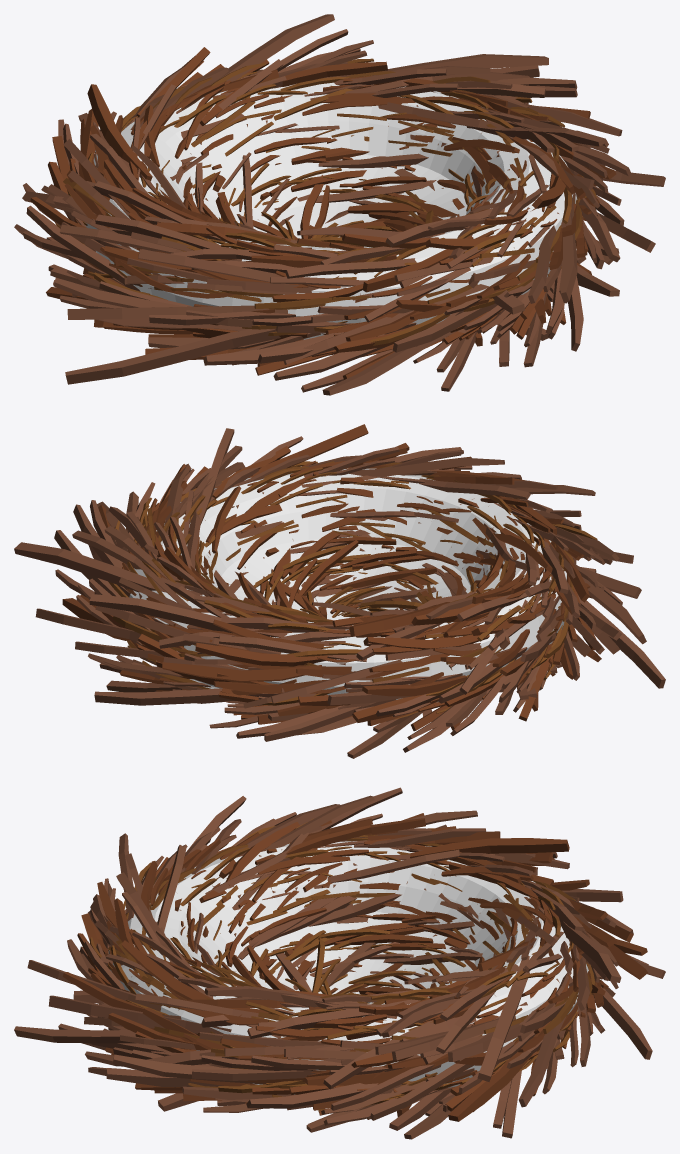
Rendered from Nest.fbx.
3 views of the same model, one above another, from view 1: azimuth 30°, elevation 25°; view 2: azimuth 150°, elevation 25°; view 3: azimuth 270°, elevation 25° (orthographic). The views are drawn at different scales.
Parts seen in each view (by area): view 1: Nest, Nest|Stick1|Dupli|1320, Nest|Stick1|Dupli|1278, Nest|Stick1|Dupli|399, Nest|Stick1|Dupli|558, Nest|Stick1|Dupli|1326, Nest|Stick2|Dupli|892, Nest|Stick1|Dupli|1092, Nest|Stick1|Dupli|1242, Nest|Stick1|Dupli|1587, Nest|Stick1|Dupli|1491, Nest|Stick1|Dupli|1638 (+58 smaller); view 2: Nest, Nest|Stick1|Dupli|399, Nest|Stick1|Dupli|558, Nest|Stick1|Dupli|582, Nest|Stick2|Dupli|628, Nest|Stick2|Dupli|637, Nest|Stick1|Dupli|1689, Nest|Stick1|Dupli|1320, Nest|Stick1|Dupli|684, Nest|Stick1|Dupli|354, Nest|Stick1|Dupli|756, Nest|Stick2|Dupli|889 (+49 smaller); view 3: Nest, Nest|Stick2|Dupli|892, Nest|Stick1|Dupli|1851, Nest|Stick1|Dupli|399, Nest|Stick1|Dupli|1803, Nest|Stick1|Dupli|123, Nest|Stick2|Dupli|307, Nest|Stick1|Dupli|1989, Nest|Stick1|Dupli|141, Nest|Stick1|Dupli|42, Nest|Stick1|Dupli|261, Nest|Stick1|Dupli|1065 (+61 smaller).
Boxes of the visible parts, bbox=[...] form: Nest: bbox=[85, 82, 577, 339]; Nest|Stick1|Dupli|1320: bbox=[65, 329, 280, 384]; Nest|Stick1|Dupli|1278: bbox=[67, 305, 287, 319]; Nest|Stick1|Dupli|399: bbox=[321, 54, 548, 78]; Nest|Stick1|Dupli|558: bbox=[208, 14, 334, 85]; Nest|Stick1|Dupli|1326: bbox=[138, 249, 288, 284]; Nest|Stick2|Dupli|892: bbox=[87, 84, 152, 181]; Nest|Stick1|Dupli|1092: bbox=[26, 205, 140, 291]; Nest|Stick1|Dupli|1242: bbox=[95, 214, 235, 249]; Nest|Stick1|Dupli|1587: bbox=[322, 331, 455, 395]; Nest|Stick1|Dupli|1491: bbox=[285, 258, 416, 278]; Nest|Stick1|Dupli|1638: bbox=[392, 303, 497, 352]; Nest: bbox=[129, 468, 566, 702]; Nest|Stick1|Dupli|399: bbox=[14, 542, 202, 595]; Nest|Stick1|Dupli|558: bbox=[89, 594, 287, 637]; Nest|Stick1|Dupli|582: bbox=[94, 688, 278, 705]; Nest|Stick2|Dupli|628: bbox=[162, 662, 321, 681]; Nest|Stick2|Dupli|637: bbox=[195, 642, 327, 666]; Nest|Stick1|Dupli|1689: bbox=[349, 457, 504, 476]; Nest|Stick1|Dupli|1320: bbox=[578, 595, 665, 688]; Nest|Stick1|Dupli|684: bbox=[219, 635, 366, 661]; Nest|Stick1|Dupli|354: bbox=[35, 608, 159, 641]; Nest|Stick1|Dupli|756: bbox=[264, 699, 396, 741]; Nest|Stick2|Dupli|889: bbox=[363, 634, 489, 649]; Nest: bbox=[108, 841, 588, 1094]; Nest|Stick2|Dupli|892: bbox=[410, 838, 569, 858]; Nest|Stick1|Dupli|1851: bbox=[48, 995, 231, 1034]; Nest|Stick1|Dupli|399: bbox=[477, 956, 530, 1081]; Nest|Stick1|Dupli|1803: bbox=[14, 1026, 136, 1043]; Nest|Stick1|Dupli|123: bbox=[246, 1083, 378, 1108]; Nest|Stick2|Dupli|307: bbox=[448, 1021, 550, 1121]; Nest|Stick1|Dupli|1989: bbox=[113, 1054, 306, 1084]; Nest|Stick1|Dupli|141: bbox=[247, 999, 420, 1038]; Nest|Stick1|Dupli|42: bbox=[192, 1069, 316, 1080]; Nest|Stick1|Dupli|261: bbox=[370, 1052, 486, 1120]; Nest|Stick1|Dupli|1065: bbox=[327, 849, 459, 882].
Size of the model in its own units: 336 by 91.61 by 343.
